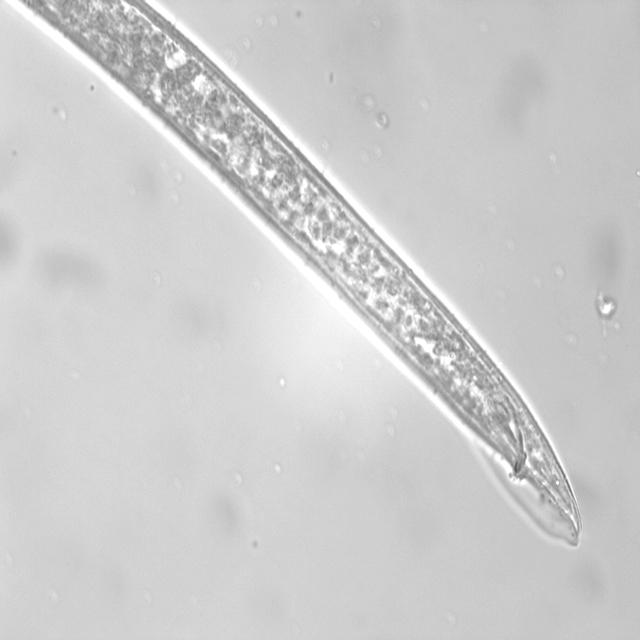Pratylenchus: (0, 0, 592, 555)
